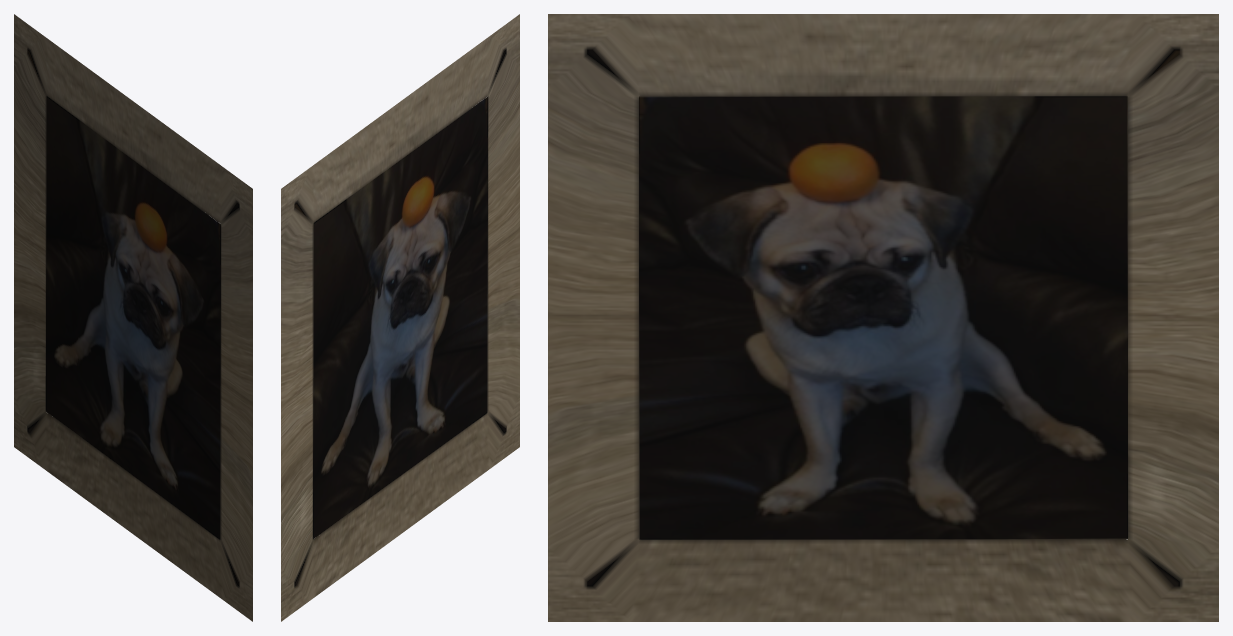
Rendered from carlos3.dae.
The picture shows the model from 3 angles, left to right: view 1: azimuth 30°, elevation 25°; view 2: azimuth 150°, elevation 25°; view 3: azimuth 270°, elevation 25°; orthographic projection. The views are drawn at different scales.
Parts seen in each view (by area): view 1: Plane_001; view 2: Plane_001; view 3: Plane_001.
Boxes of the visible parts, box(x1,y1,x2,y2) form: Plane_001: box(14, 14, 252, 621); Plane_001: box(281, 14, 519, 621); Plane_001: box(548, 14, 1218, 621).
Bounding box in the file's own units: 2.68e-05 × 0.2979 × 0.2979.
1 material, 1 textured.
